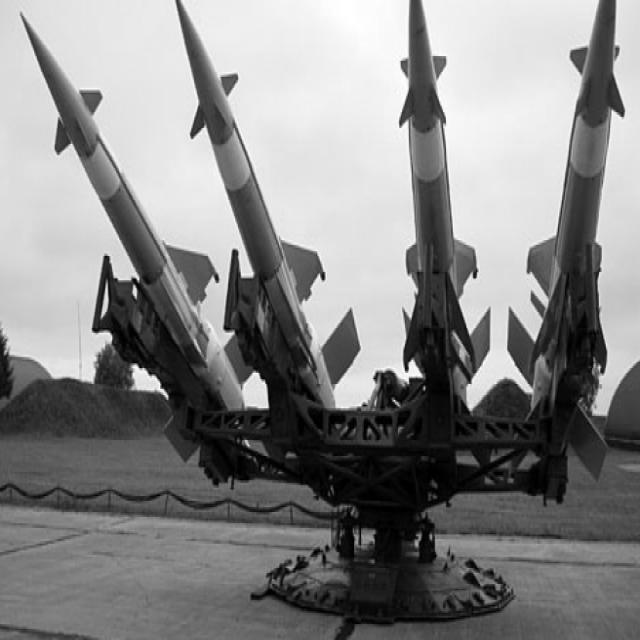missile: (2, 0, 260, 442)
